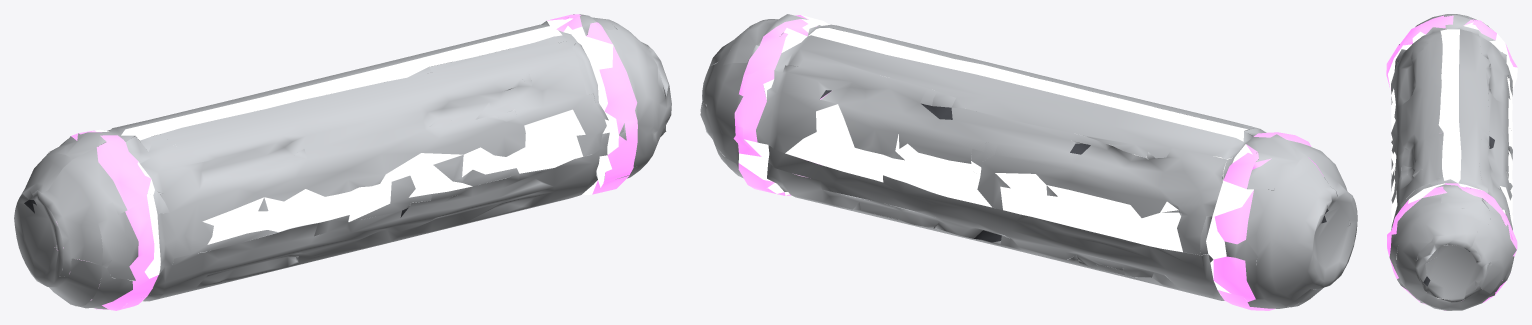
The model's file is SM_Habitat_v1_slots.fbx.
3 views of the same model, side by side, from view 1: azimuth 30°, elevation 25°; view 2: azimuth 150°, elevation 25°; view 3: azimuth 270°, elevation 25° (orthographic). The views are drawn at different scales.
Parts seen in each view (by area): view 1: SM_Habitat; view 2: SM_Habitat; view 3: SM_Habitat.
Part boxes in pixels (box(x1,y1,x2,y2)): SM_Habitat: box(14, 14, 671, 310); SM_Habitat: box(700, 14, 1357, 310); SM_Habitat: box(1386, 14, 1517, 310).
Size of the model in its own units: 1.92 by 0.5118 by 0.4941.
